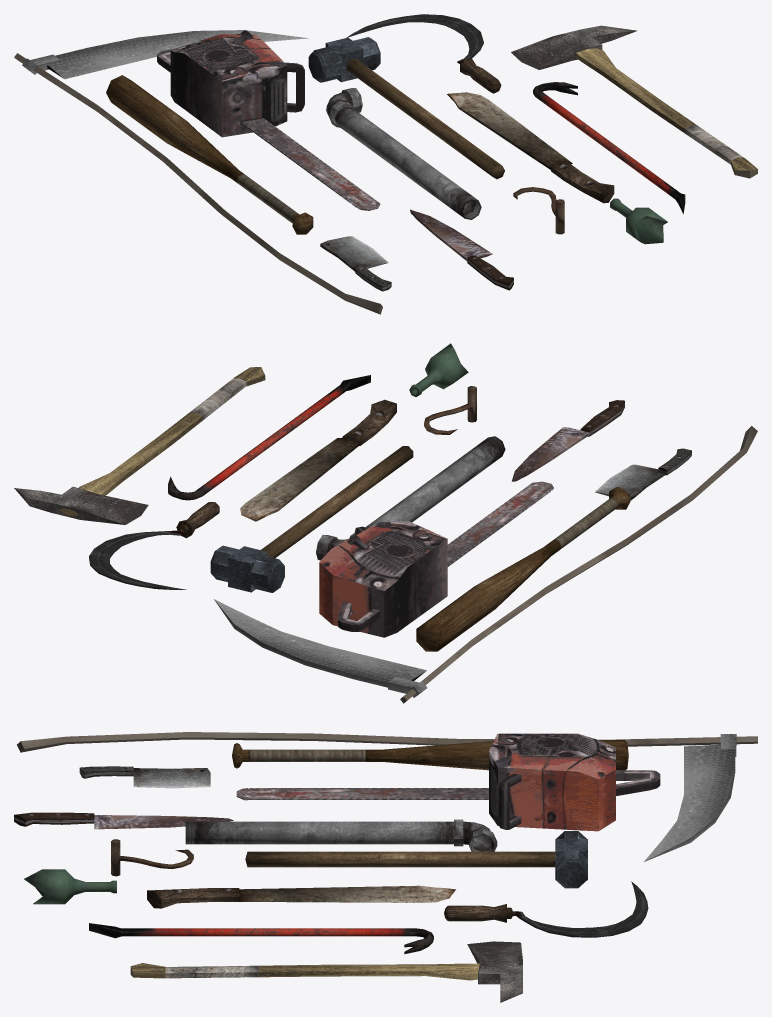
Rendered from Weapons.fbx.
The picture shows the model from 3 angles, top to bottom: view 1: azimuth 30°, elevation 25°; view 2: azimuth 150°, elevation 25°; view 3: azimuth 270°, elevation 25°; orthographic projection. The views are drawn at different scales.
Visible parts, largest first — view 1: chainsaw_obj, sycthe_obj, axe_obj, baseball_bat_obj, sledgehammer_obj, metal_pipe_obj, machete_obj, sickle_obj, crowbar_obj, knife_obj, cleaver_obj, broken_bottle_obj (+1 smaller); view 2: chainsaw_obj, sycthe_obj, axe_obj, baseball_bat_obj, sledgehammer_obj, machete_obj, metal_pipe_obj, sickle_obj, crowbar_obj, knife_obj, cleaver_obj, broken_bottle_obj (+1 smaller); view 3: chainsaw_obj, sycthe_obj, metal_pipe_obj, sledgehammer_obj, axe_obj, baseball_bat_obj, machete_obj, crowbar_obj, sickle_obj, knife_obj, cleaver_obj, broken_bottle_obj (+1 smaller).
Part boxes in pixels (x1,y1,x2,y2): chainsaw_obj: (157,30,380,210); sycthe_obj: (14,30,382,314); axe_obj: (511,25,757,178); baseball_bat_obj: (106,75,313,234); sledgehammer_obj: (308,37,504,179); metal_pipe_obj: (326,88,481,219); machete_obj: (447,92,614,203); sickle_obj: (346,14,501,93); crowbar_obj: (533,82,685,214); knife_obj: (410,209,513,290); cleaver_obj: (320,236,391,291); broken_bottle_obj: (610,198,667,244); chainsaw_obj: (319,481,553,637); sycthe_obj: (214,426,757,703); axe_obj: (14,367,265,524); baseball_bat_obj: (416,487,630,651); sledgehammer_obj: (210,446,413,592); machete_obj: (240,399,396,521); metal_pipe_obj: (316,436,505,560); sickle_obj: (89,502,219,589); crowbar_obj: (168,375,370,500); knife_obj: (511,400,624,481); cleaver_obj: (595,448,691,500); broken_bottle_obj: (409,343,468,396); chainsaw_obj: (236,733,660,831); sycthe_obj: (17,732,757,861); metal_pipe_obj: (185,819,497,851); sledgehammer_obj: (245,831,587,888); axe_obj: (130,941,522,1002); baseball_bat_obj: (232,740,628,770); machete_obj: (147,885,455,908); crowbar_obj: (89,923,433,954); sickle_obj: (444,881,648,937); knife_obj: (14,812,233,829); cleaver_obj: (79,766,210,788); broken_bottle_obj: (24,869,116,904).
Size of the model in its own units: 138 by 17.74 by 165.
13 materials, 13 textured.
